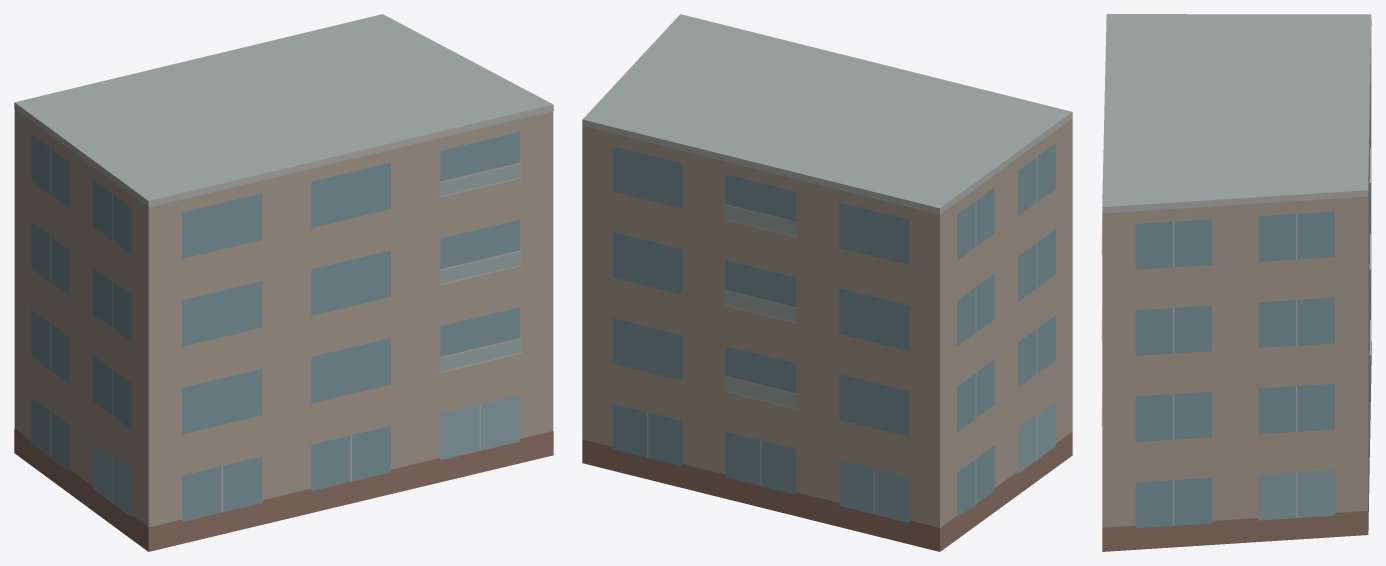
Rendered from survey-upis-32702571.glb.
3 renders of one model, left to right at view 1: azimuth 30°, elevation 25°; view 2: azimuth 150°, elevation 25°; view 3: azimuth 270°, elevation 25°, orthographic. The views are drawn at different scales.
Visible parts, largest first — view 1: survey-upis-32702571.tmp; view 2: survey-upis-32702571.tmp; view 3: survey-upis-32702571.tmp.
Boxes of the visible parts, x1,y1,x2,y2 form: survey-upis-32702571.tmp: [14, 14, 553, 551]; survey-upis-32702571.tmp: [582, 14, 1072, 551]; survey-upis-32702571.tmp: [1101, 14, 1371, 551].
Size of the model in its own units: 15.81 by 13.15 by 9.34.
